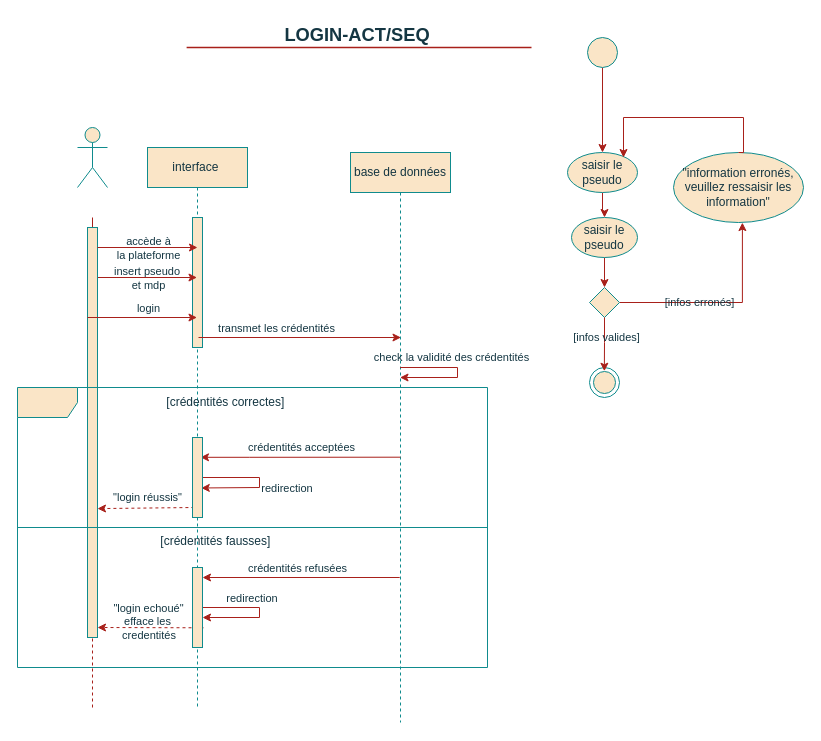
Image size: 821x741. Some labels were removed from this diagram. The shapes that lost their labels are listed below. From the top down, each one's box as (x1, y1, x2, y2) in pixels, then its label:
(36, 47, 678, 63): %creatorName% | %date{mmmm d, yyyy}%
(76, 126, 108, 188): Actor
(16, 386, 488, 668): alt
